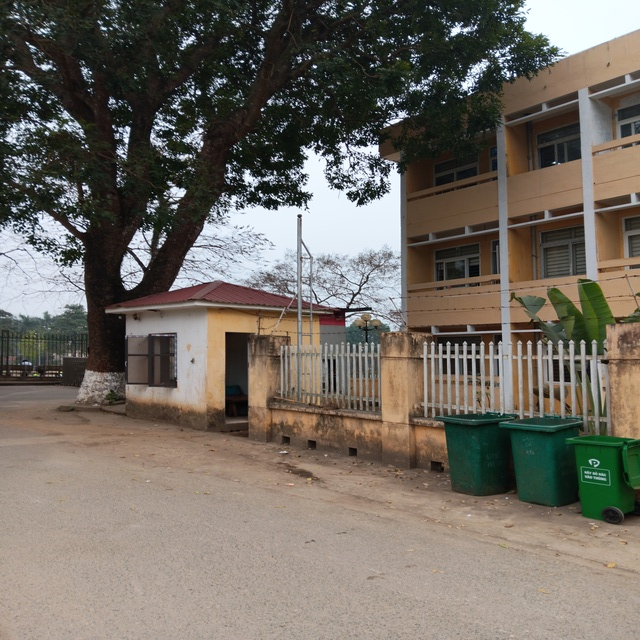thungrac: (502, 413, 581, 510), (573, 430, 640, 531), (437, 411, 510, 498)
